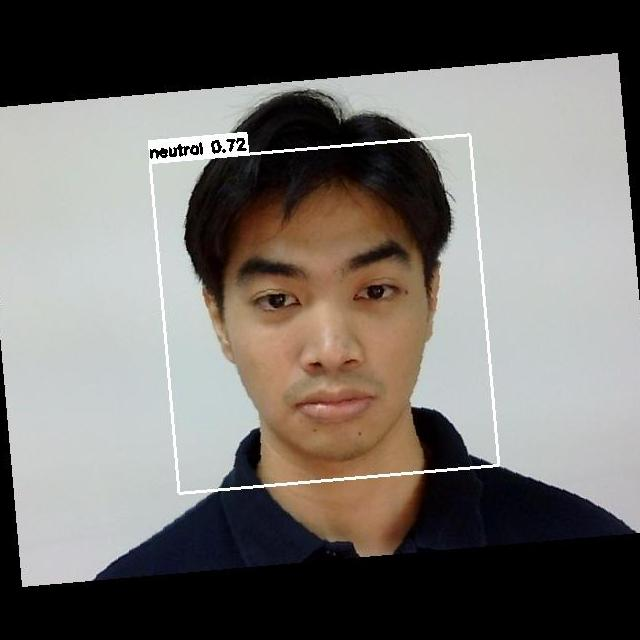Fear: (207, 214, 447, 443)
